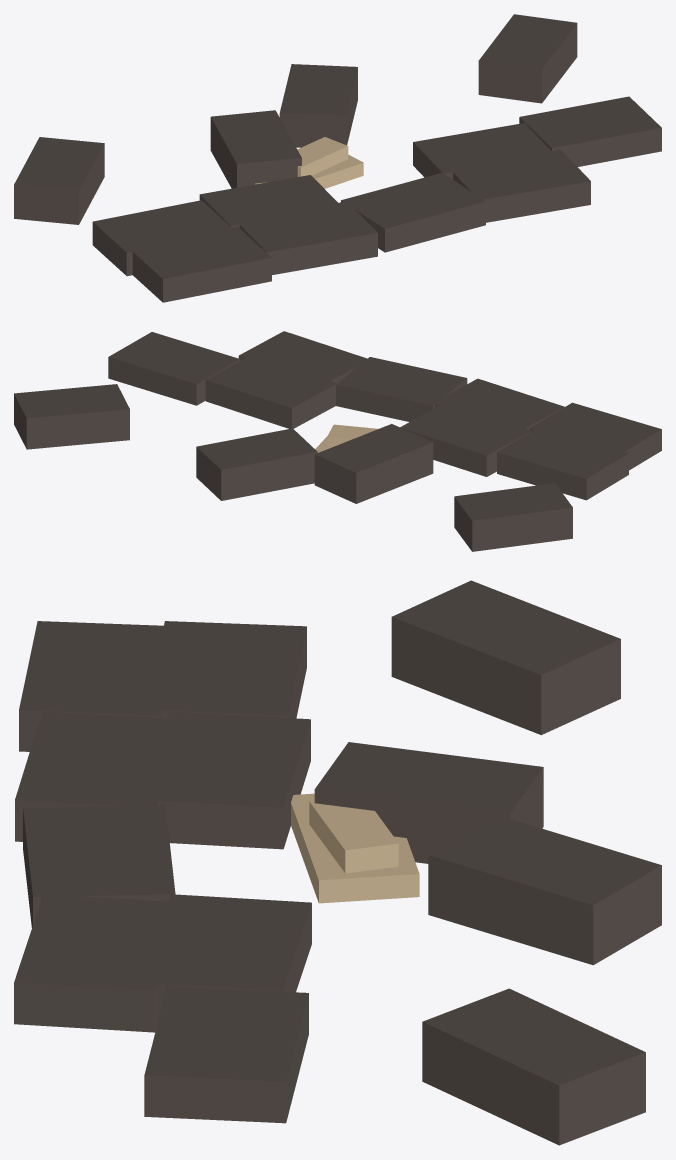
Rendered from SM_PretilTramo_v4_Red_e3_Brecha_LOD0.fbx.
The picture shows the model from 3 angles, top to bottom: view 1: azimuth 30°, elevation 25°; view 2: azimuth 150°, elevation 25°; view 3: azimuth 270°, elevation 25°; orthographic projection. The views are drawn at different scales.
Visible parts, largest first — view 1: SM_pretil_azotea_v19_LOD0; view 2: SM_pretil_azotea_v19_LOD0; view 3: SM_pretil_azotea_v19_LOD0.
Part boxes in pixels (x1,y1,x2,y2): SM_pretil_azotea_v19_LOD0: (14,14,661,302); SM_pretil_azotea_v19_LOD0: (14,331,661,551); SM_pretil_azotea_v19_LOD0: (14,580,661,1145).
Bounding box in the file's own units: 4.69 × 0.26 × 2.54.
